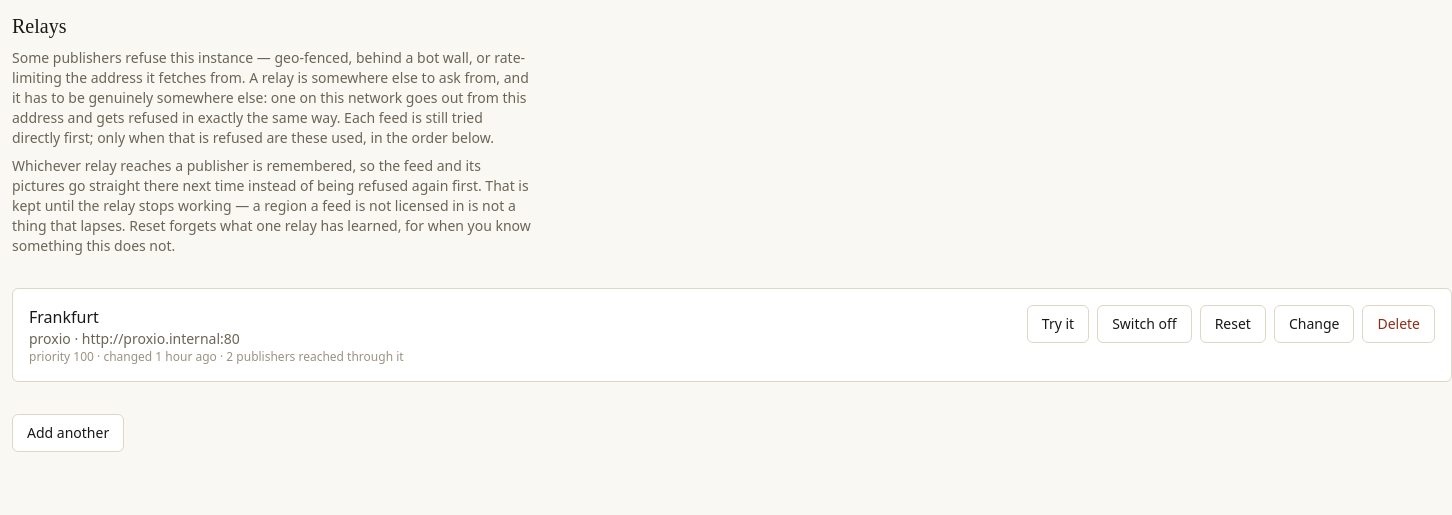
Test: ProxiesPage › forgets what one relay learned without removing the relay
Click the button "Reset": (1233, 324) [1200, 305, 1266, 343]
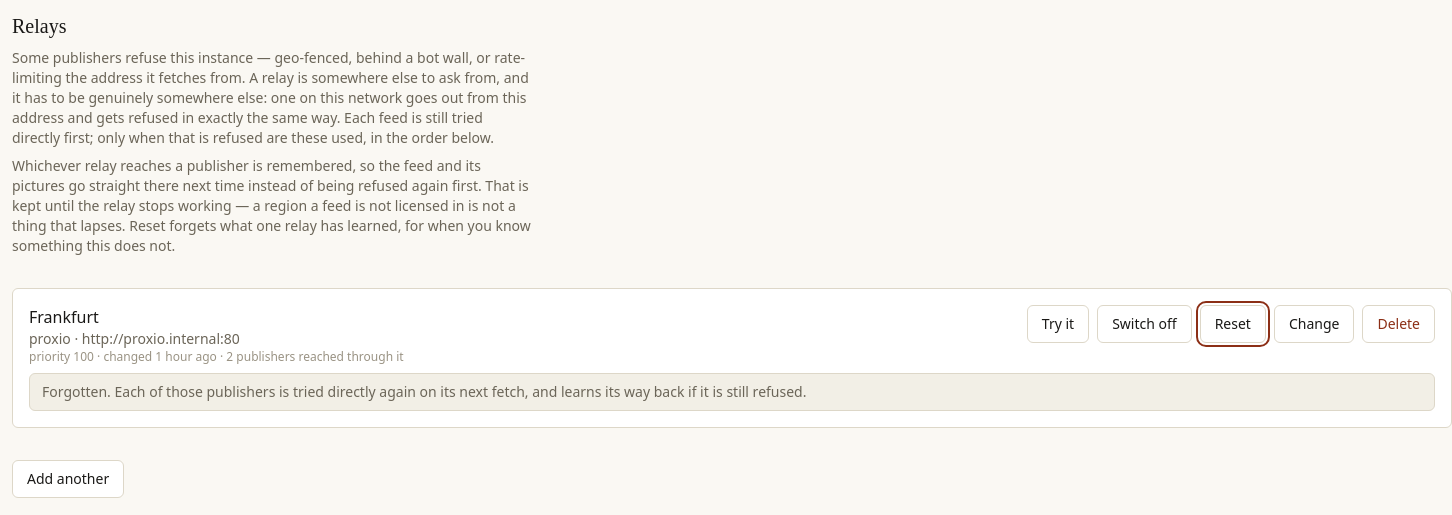
Expected: the list item is shown, [12, 288, 1451, 428]
Expected: the text "Forgotten." is shown, [42, 382, 806, 401]
